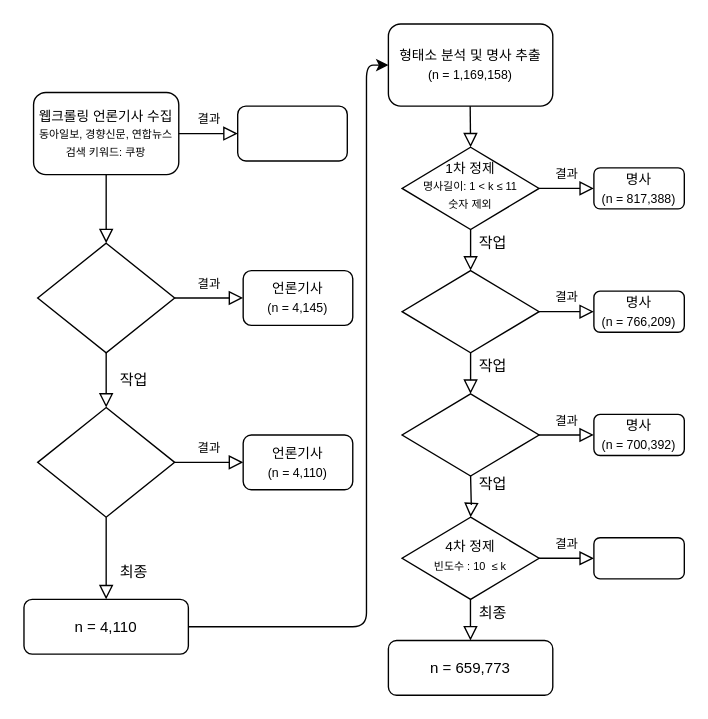
Image size: 708x719. Some labels were removed from this diagram. The box of each missing label's shape, as (x1, y1, x2, y2) in pixels:
1차 정제 전처리 코딩: (36, 242, 175, 353)
2차 정제 내용 검토: (36, 406, 175, 517)
2차 정제 빈도수: 3 ≤ k: (401, 269, 539, 353)
3차 정제 불용어 처리: (401, 393, 539, 476)
명사 (n = 659,773): (593, 536, 684, 579)
언론기사 (n = 7,356): (236, 105, 347, 161)
